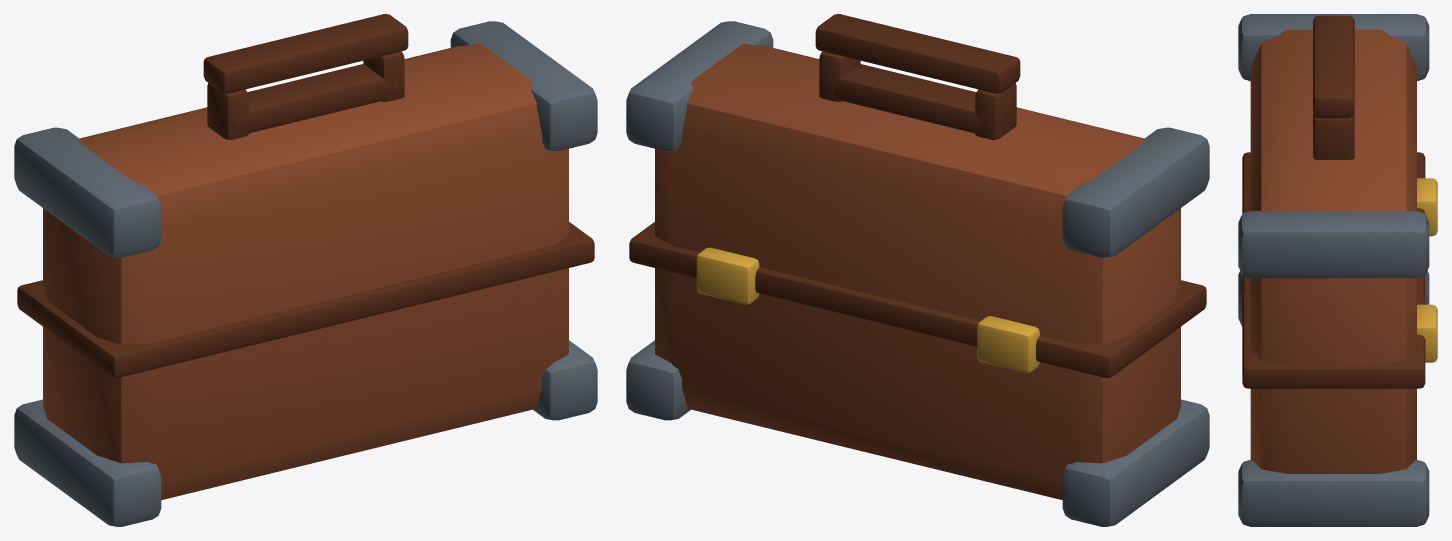
Rendered from Suitcase.glb.
3 renders of one model, left to right at view 1: azimuth 30°, elevation 25°; view 2: azimuth 150°, elevation 25°; view 3: azimuth 270°, elevation 25°, orthographic. The views are drawn at different scales.
Parts seen in each view (by area): view 1: Suitcase; view 2: Suitcase; view 3: Suitcase.
Part boxes in pixels (x1,y1,x2,y2): Suitcase: [14, 14, 597, 526]; Suitcase: [626, 14, 1209, 526]; Suitcase: [1238, 14, 1437, 526].
Bounding box in the file's own units: 0.63 × 0.485 × 0.24.
